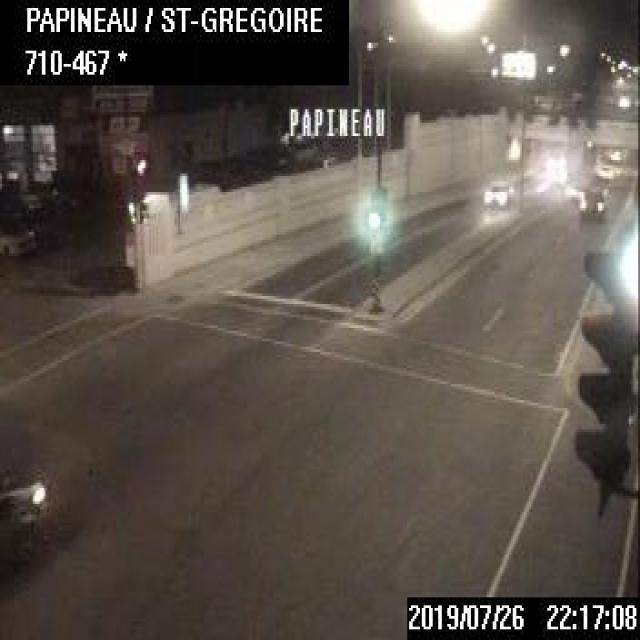vehicle: (0, 458, 58, 562), (0, 216, 38, 256), (480, 177, 513, 208), (578, 186, 608, 218)
